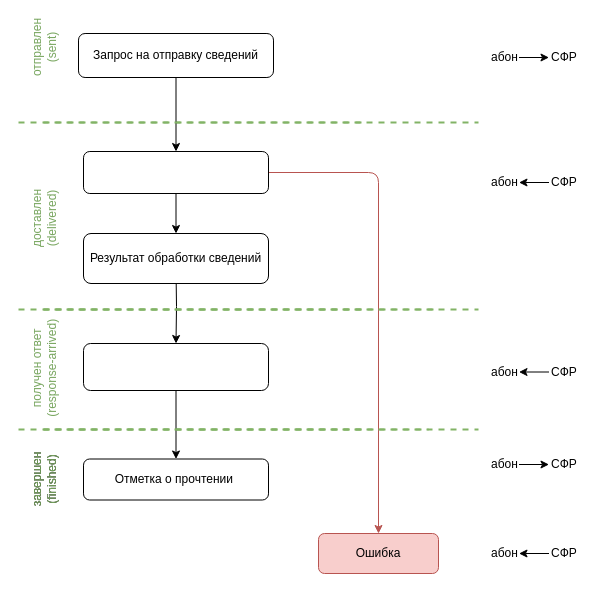
The diagram is 606 pixels wide and 591 high, and some of its shapes have lost their labels. The shapes that lost their labels are listed below. From the top down, each one's centre as x and y in pixels, then its label:
At point 175,172: "Ответ на запрос".
At point 175,366: "Результат рассмотрения сведений".
